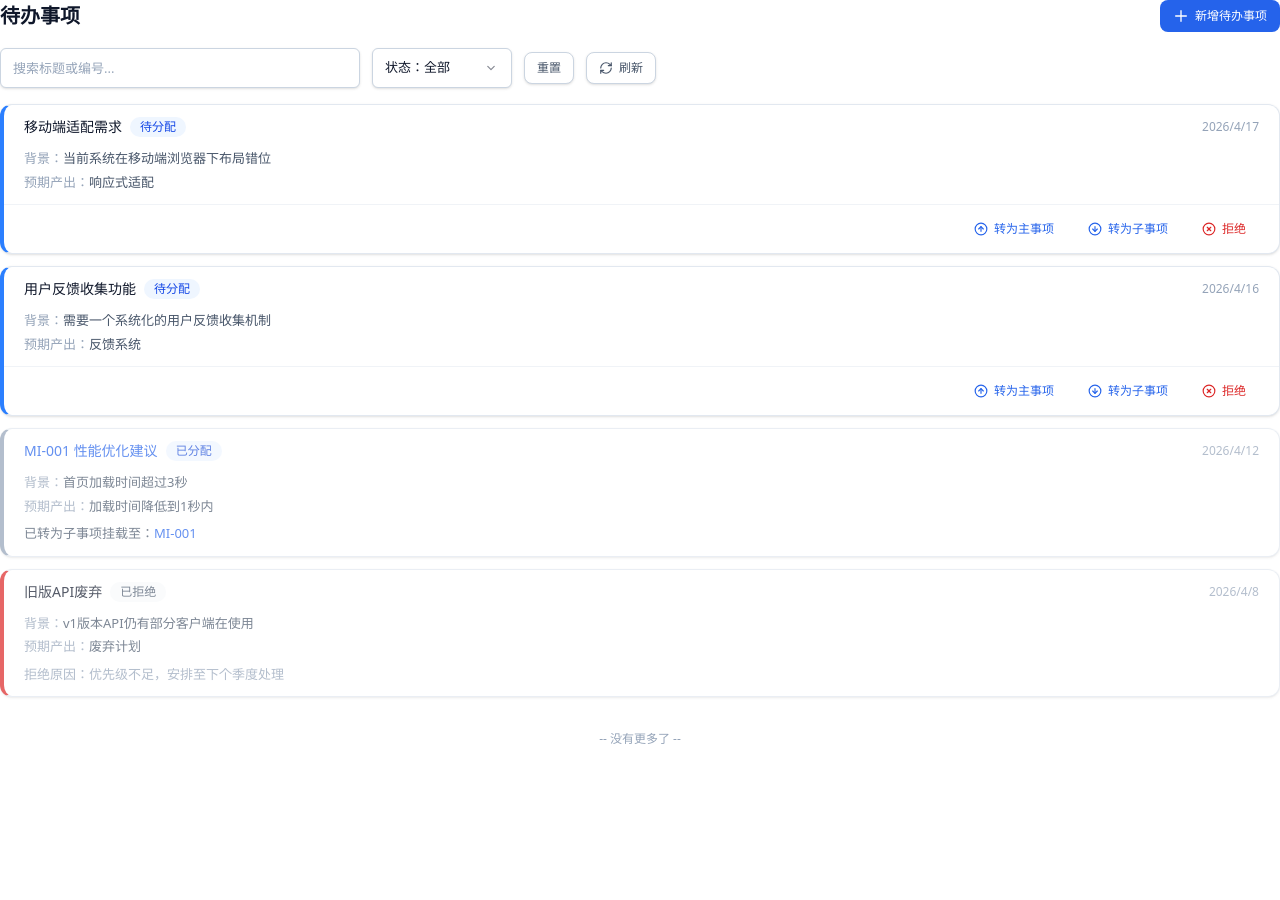
Test: ItemPoolPage › enables 确认转换 button when assignee is selected in convert-to-main dialog
Check: the text "移动端适配需求" is shown, box [24,117,122,137]
What coordinates should you click on to do the following:
click the button with test id "to-main-1"
I would click on:
 (1014, 229)
Its box is [961,213,1067,245].
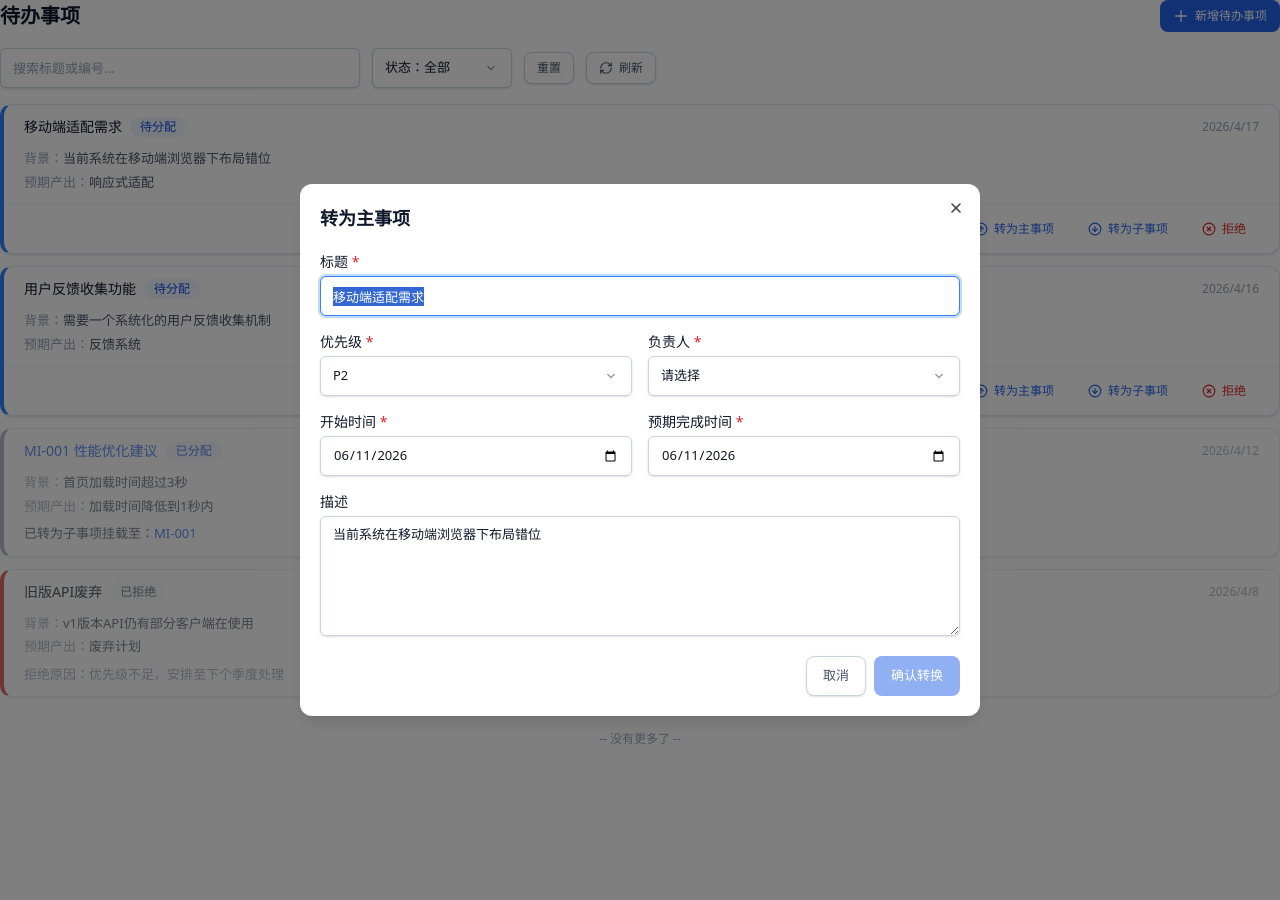
Check: the button "确认转换" is shown, box [874,656,960,696]
What coordinates should you click on to do the following:
click the dropdown labelled "请选择"
I would click on:
 (681, 375)
Its box is [648,356,960,396].
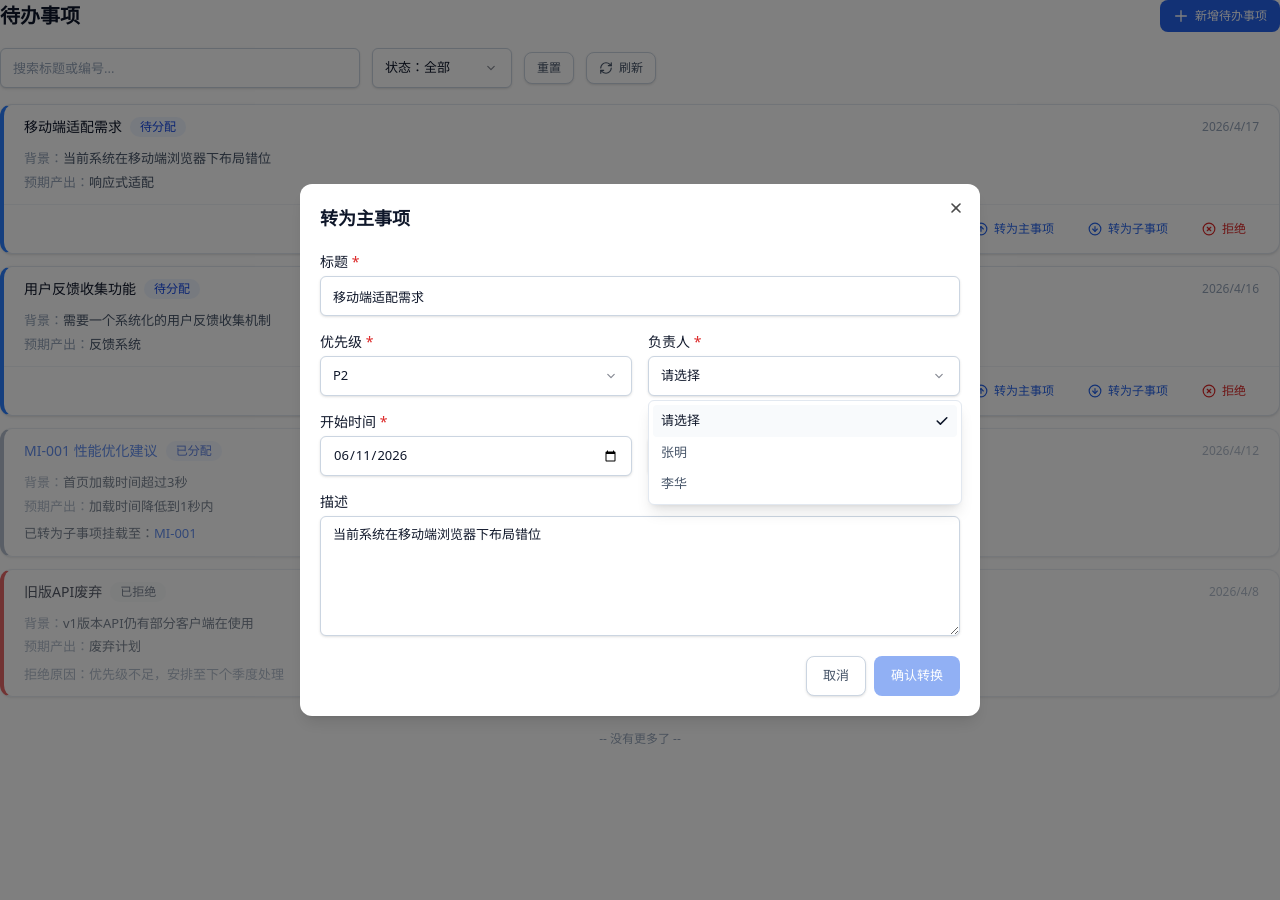
Check: the text "张明" is shown
What coordinates should you click on to do the following:
click the option "张明"
I would click on:
 (674, 452)
Its box is [661,442,687,460].
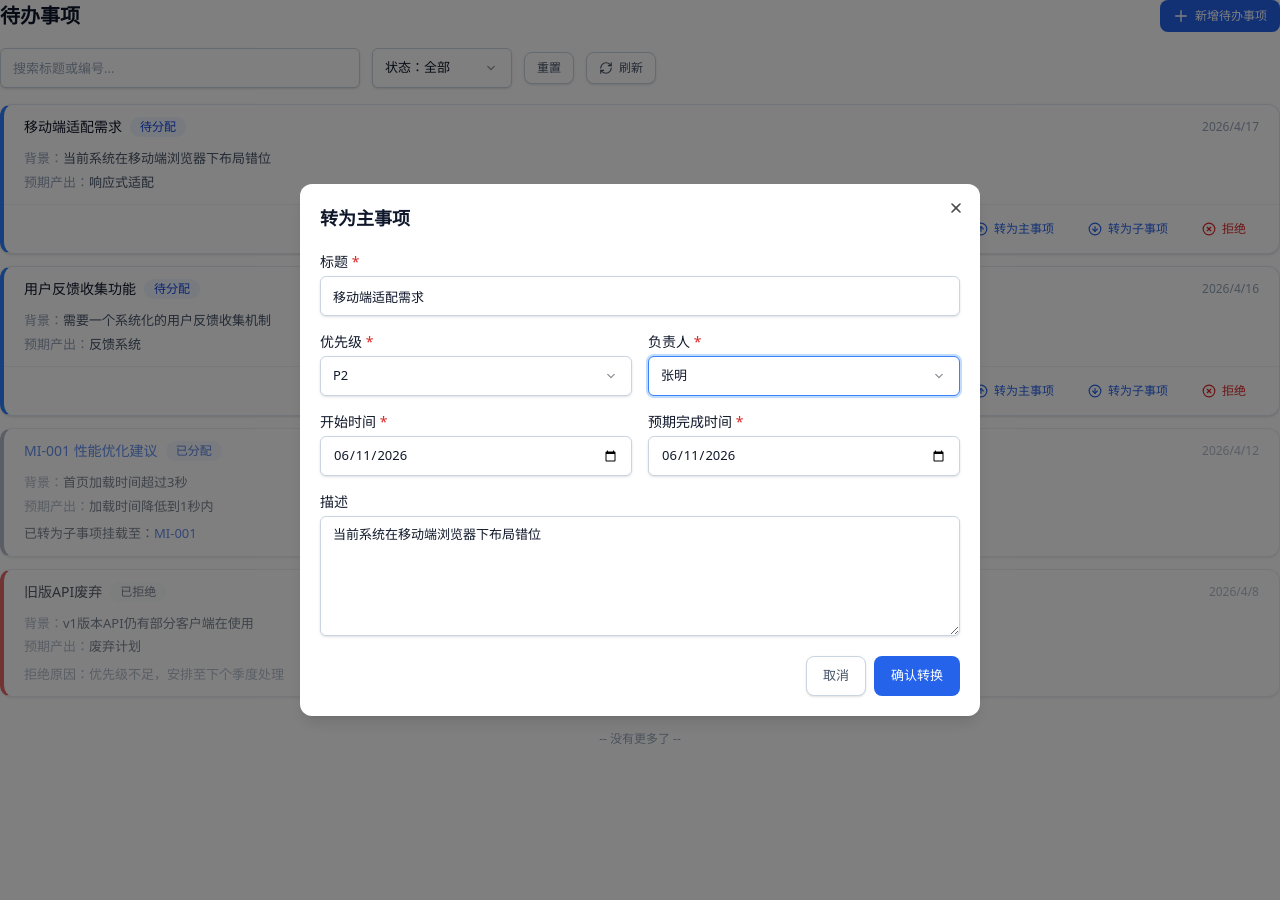
Check: the button "确认转换" is enabled, box [874,656,960,696]
